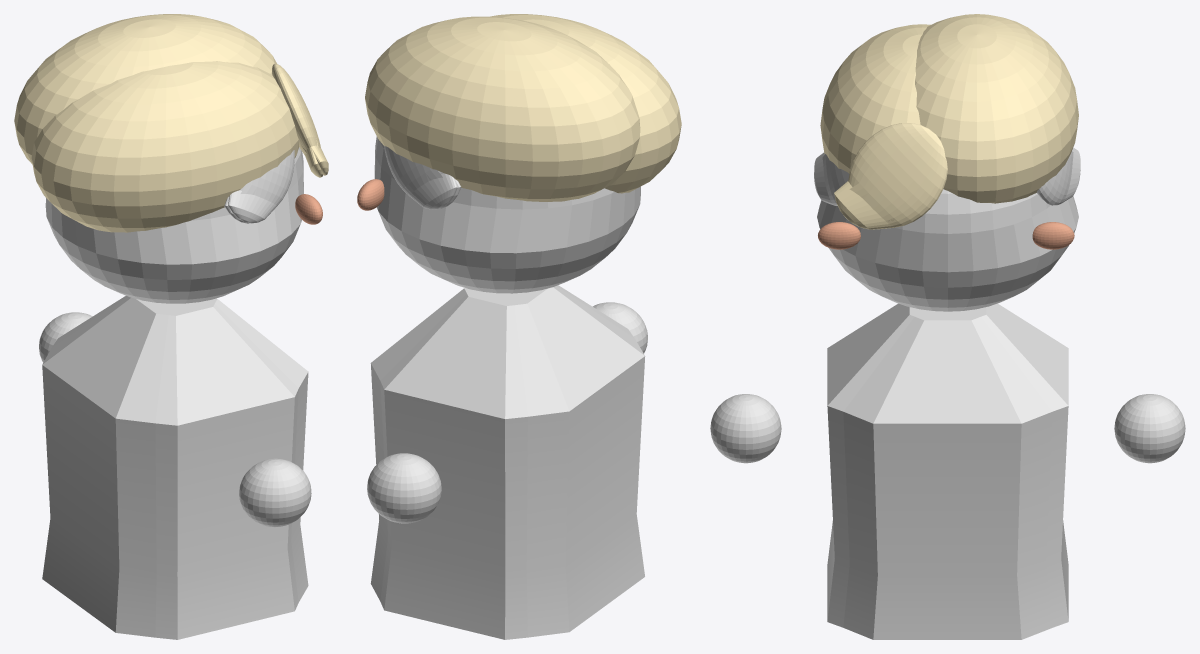
The model's file is Horace.fbx.
3 views of the same model, side by side, from view 1: azimuth 30°, elevation 25°; view 2: azimuth 150°, elevation 25°; view 3: azimuth 270°, elevation 25° (orthographic). The views are drawn at different scales.
Visible parts, largest first — view 1: Cube, Sphere.034, Sphere, Sphere.035, Sphere.001, Sphere.037, Sphere.036, Sphere.004; view 2: Cube, Sphere.035, Sphere, Sphere.034, Sphere.001, Sphere.038, Sphere.004; view 3: Cube, Sphere.035, Sphere, Sphere.034, Sphere.036, Sphere.001, Sphere.004, Sphere.038, Sphere.037.
Part boxes in pixels (bbox=[...]): Cube: bbox=[42, 296, 308, 639]; Sphere.034: bbox=[31, 61, 298, 232]; Sphere: bbox=[45, 147, 303, 303]; Sphere.035: bbox=[14, 14, 276, 164]; Sphere.001: bbox=[39, 312, 311, 527]; Sphere.037: bbox=[224, 150, 294, 223]; Sphere.036: bbox=[272, 63, 328, 177]; Sphere.004: bbox=[295, 194, 322, 224]; Cube: bbox=[370, 285, 645, 639]; Sphere.035: bbox=[365, 16, 640, 201]; Sphere: bbox=[374, 136, 640, 293]; Sphere.034: bbox=[490, 14, 681, 193]; Sphere.001: bbox=[367, 302, 647, 523]; Sphere.038: bbox=[384, 146, 461, 209]; Sphere.004: bbox=[357, 179, 384, 210]; Cube: bbox=[827, 303, 1068, 639]; Sphere.035: bbox=[915, 14, 1078, 203]; Sphere: bbox=[817, 189, 1078, 311]; Sphere.034: bbox=[820, 24, 930, 173]; Sphere.036: bbox=[834, 123, 947, 229]; Sphere.001: bbox=[710, 394, 1185, 463]; Sphere.004: bbox=[818, 222, 1074, 249]; Sphere.038: bbox=[1036, 147, 1080, 205]; Sphere.037: bbox=[814, 152, 849, 205].
Size of the model in its own units: 231 by 456 by 356.
